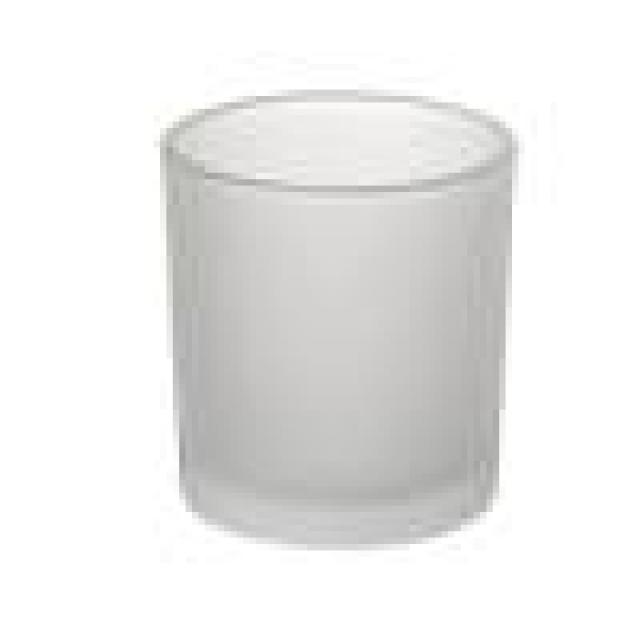Dry: (151, 85, 521, 553)
